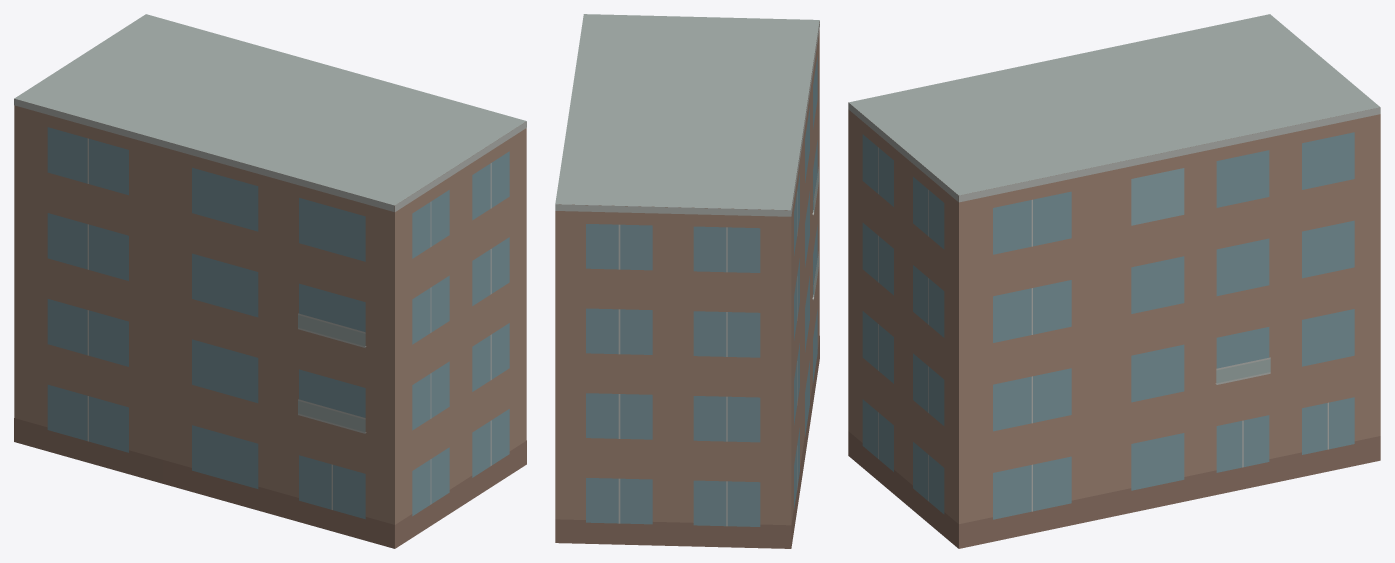
Rendered from survey-upis-32836420.glb.
3 renders of one model, left to right at view 1: azimuth 30°, elevation 25°; view 2: azimuth 150°, elevation 25°; view 3: azimuth 270°, elevation 25°, orthographic. The views are drawn at different scales.
Visible parts, largest first — view 1: survey-upis-32836420.tmp; view 2: survey-upis-32836420.tmp; view 3: survey-upis-32836420.tmp.
Boxes of the visible parts, x1,y1,x2,y2 form: survey-upis-32836420.tmp: (14, 14, 526, 548); survey-upis-32836420.tmp: (555, 14, 819, 548); survey-upis-32836420.tmp: (848, 14, 1380, 548).
Bounding box in the file's own units: 13.78 × 12.5 × 17.07.
